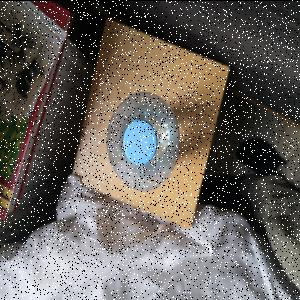Plastic-bottle: (107, 90, 182, 193)
